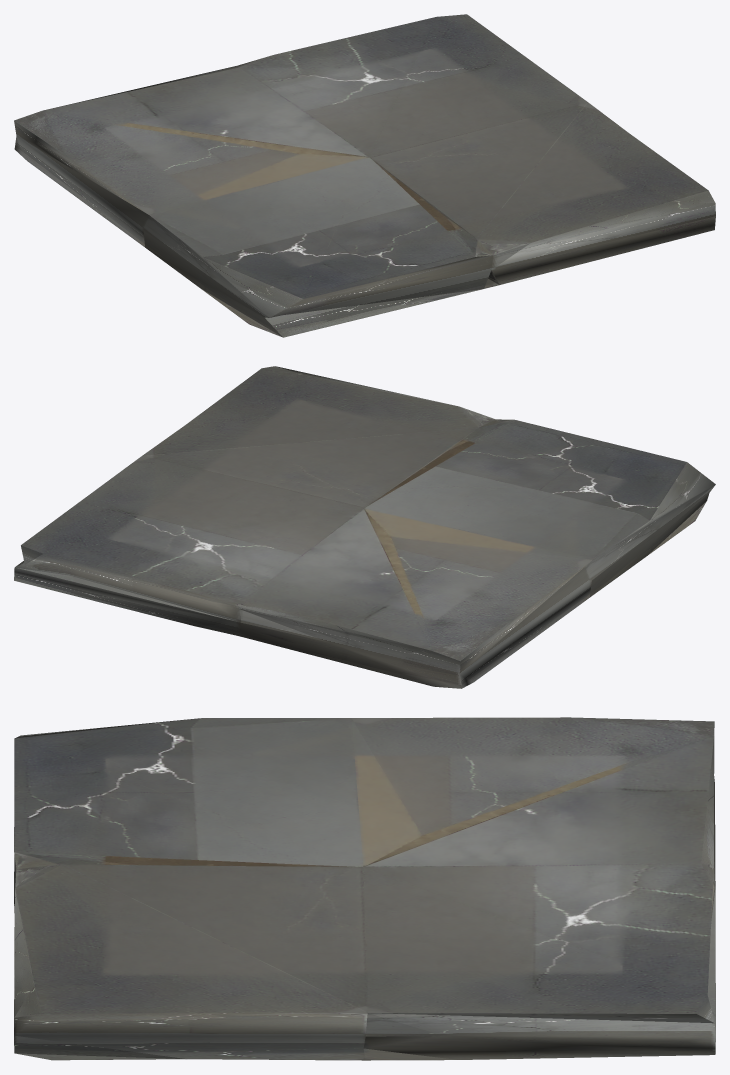
The model's file is ENV_FloorTile.fbx.
The picture shows the model from 3 angles, top to bottom: view 1: azimuth 30°, elevation 25°; view 2: azimuth 150°, elevation 25°; view 3: azimuth 270°, elevation 25°; orthographic projection. The views are drawn at different scales.
Visible parts, largest first — view 1: Mesh_0; view 2: Mesh_0; view 3: Mesh_0.
Part boxes in pixels (x1,y1,x2,y2): Mesh_0: (14,14,715,337); Mesh_0: (14,366,715,688); Mesh_0: (14,717,715,1060).
Size of the model in its own units: 189 by 14.2 by 189.
Materials: 1 (1 with a texture image).
